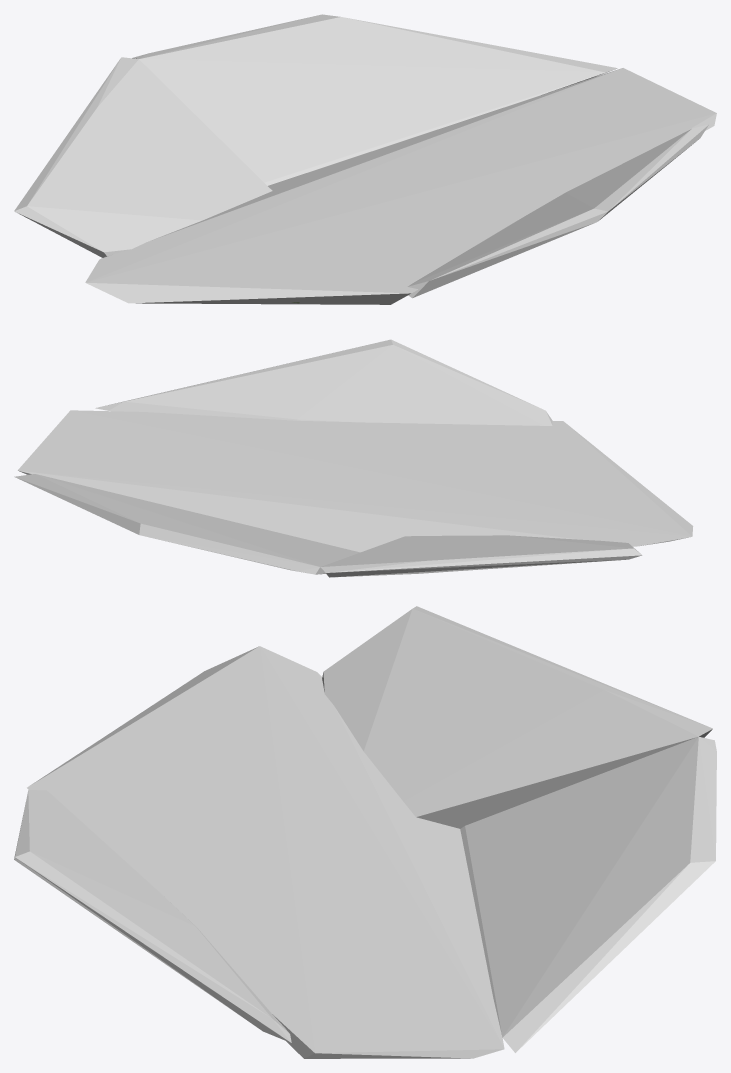
Rendered from SM_Leaf_02.fbx.
3 renders of one model, top to bottom at view 1: azimuth 30°, elevation 25°; view 2: azimuth 150°, elevation 25°; view 3: azimuth 270°, elevation 25°, orthographic. The views are drawn at different scales.
Parts seen in each view (by area): view 1: SM_Leaf_02_ConvexHulls; view 2: SM_Leaf_02_ConvexHulls; view 3: SM_Leaf_02_ConvexHulls.
Boxes of the visible parts, bbox=[...] form: SM_Leaf_02_ConvexHulls: bbox=[14, 14, 716, 304]; SM_Leaf_02_ConvexHulls: bbox=[14, 339, 693, 577]; SM_Leaf_02_ConvexHulls: bbox=[14, 606, 716, 1058].
Bounding box in the file's own units: 22.53 × 16.37 × 2.39.
